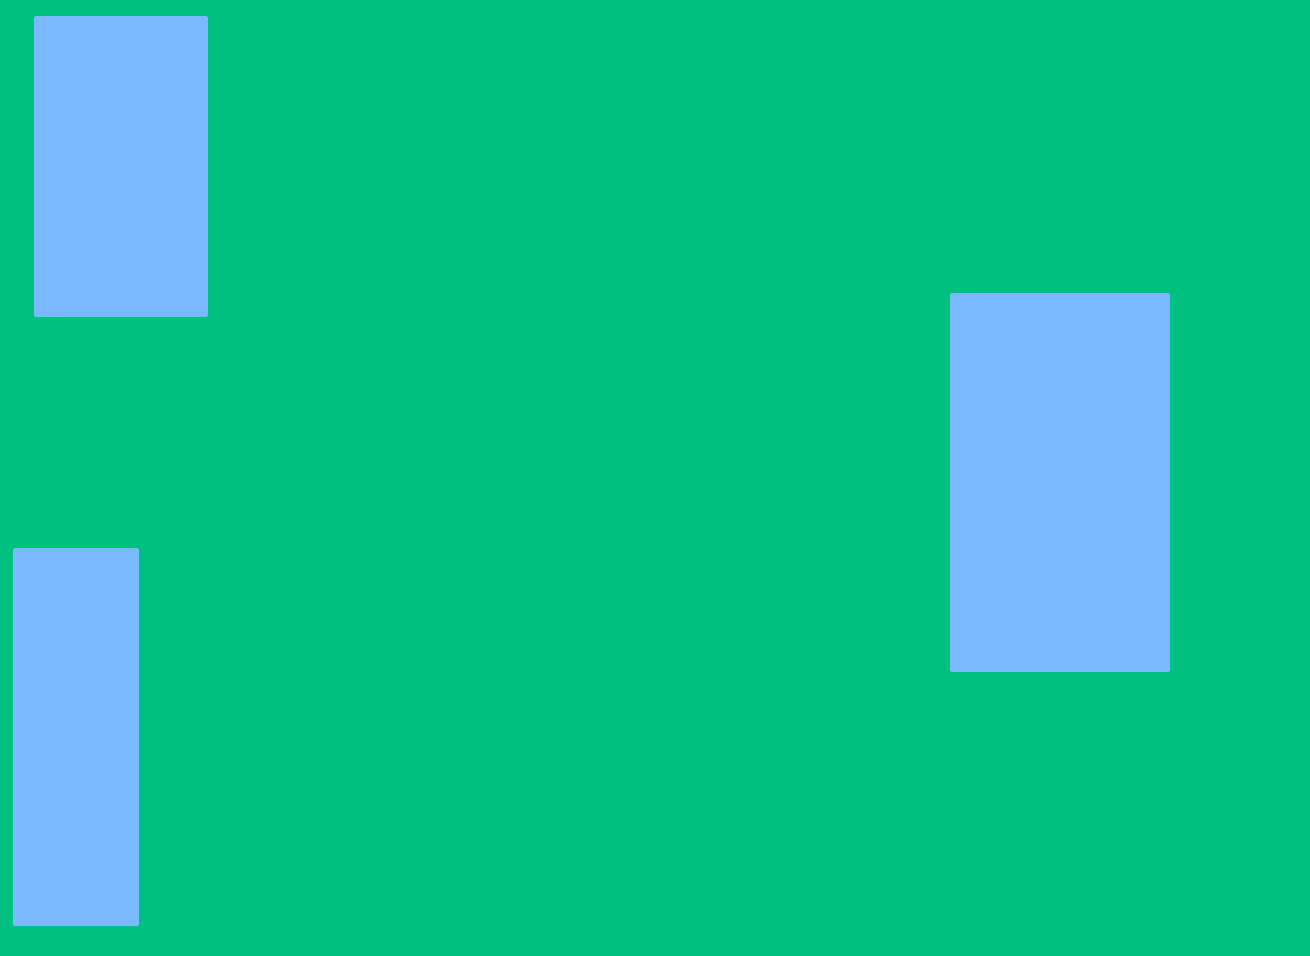Text_area: (951, 294, 1168, 670), (35, 17, 206, 315), (14, 549, 137, 924)
